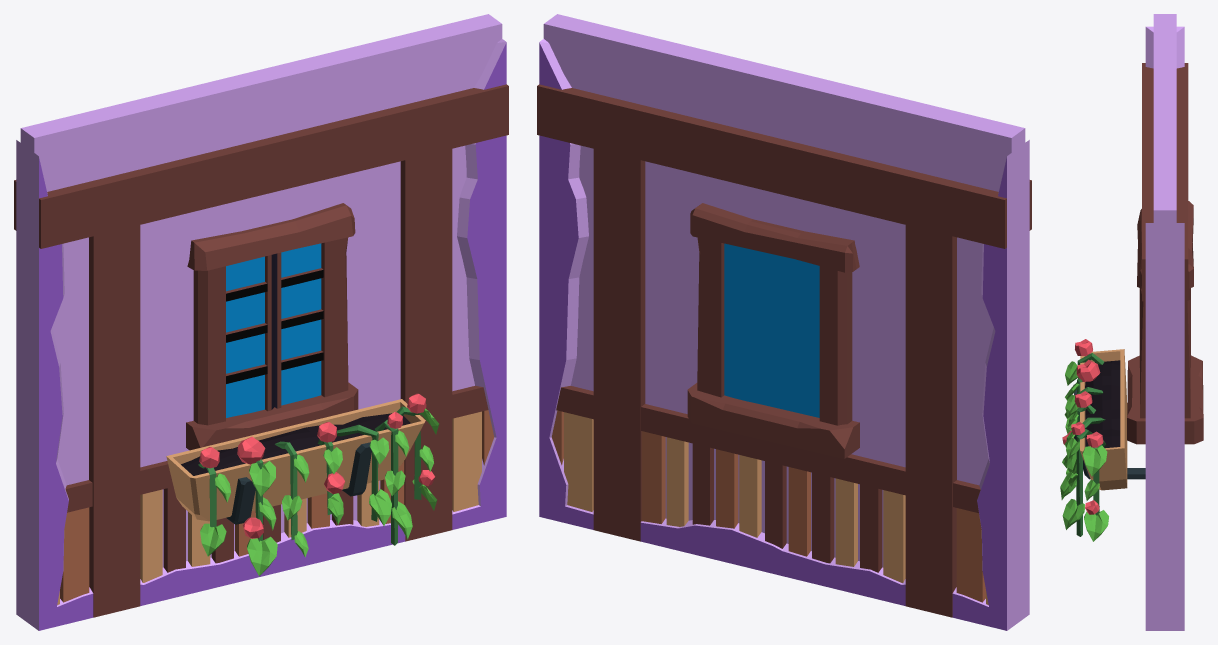
File: Modular Wall 04 MK2 W4.fbx
3 views of the same model, side by side, from view 1: azimuth 30°, elevation 25°; view 2: azimuth 150°, elevation 25°; view 3: azimuth 270°, elevation 25° (orthographic). The views are drawn at different scales.
Parts seen in each view (by area): view 1: Modular Wall 04 MK2 W4; view 2: Modular Wall 04 MK2 W4; view 3: Modular Wall 04 MK2 W4.
Part boxes in pixels (x1,y1,x2,y2): Modular Wall 04 MK2 W4: (14, 14, 508, 630); Modular Wall 04 MK2 W4: (537, 14, 1031, 630); Modular Wall 04 MK2 W4: (1060, 14, 1203, 630).
Bounding box in the file's own units: 400 × 400 × 124.
